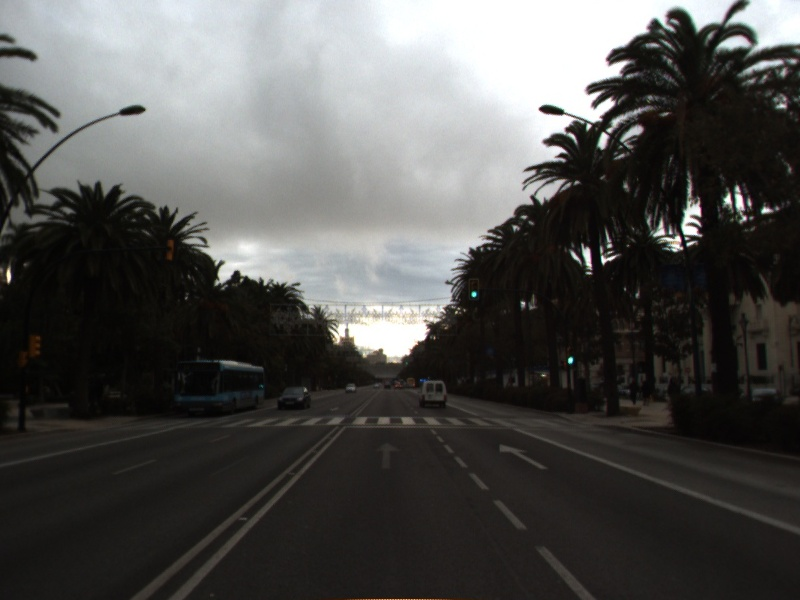STRAIGHT: (497, 441, 551, 472), (372, 439, 404, 471)
